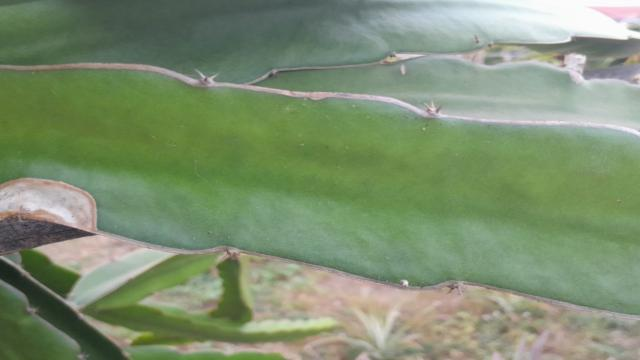stemcanker: (0, 176, 100, 234)
